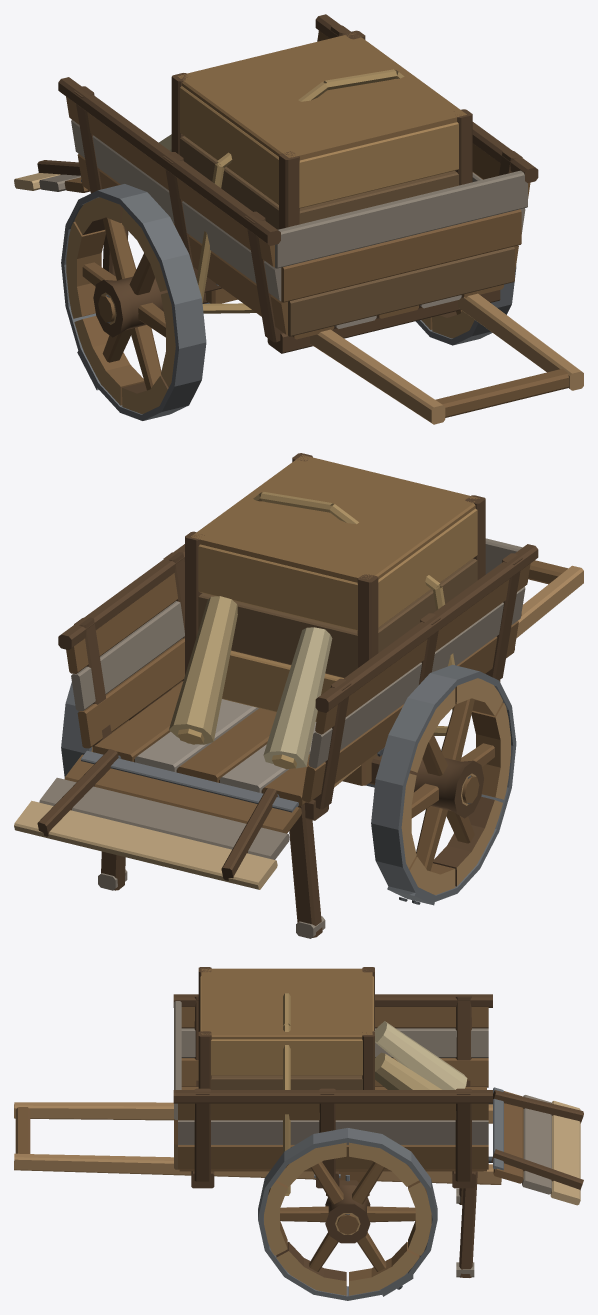
Rendered from SM_LPD_Crate_HandcartLoaded_01.fbx.
The picture shows the model from 3 angles, top to bottom: view 1: azimuth 30°, elevation 25°; view 2: azimuth 150°, elevation 25°; view 3: azimuth 270°, elevation 25°; orthographic projection. The views are drawn at different scales.
Visible parts, largest first — view 1: SM_LPD_Crate_HandcartLoaded_01; view 2: SM_LPD_Crate_HandcartLoaded_01; view 3: SM_LPD_Crate_HandcartLoaded_01.
Boxes of the visible parts, x1,y1,x2,y2 form: SM_LPD_Crate_HandcartLoaded_01: (14,14,583,424); SM_LPD_Crate_HandcartLoaded_01: (14,453,583,938); SM_LPD_Crate_HandcartLoaded_01: (14,967,583,1300).
Size of the model in its own units: 1.11 by 0.9298 by 1.96.
